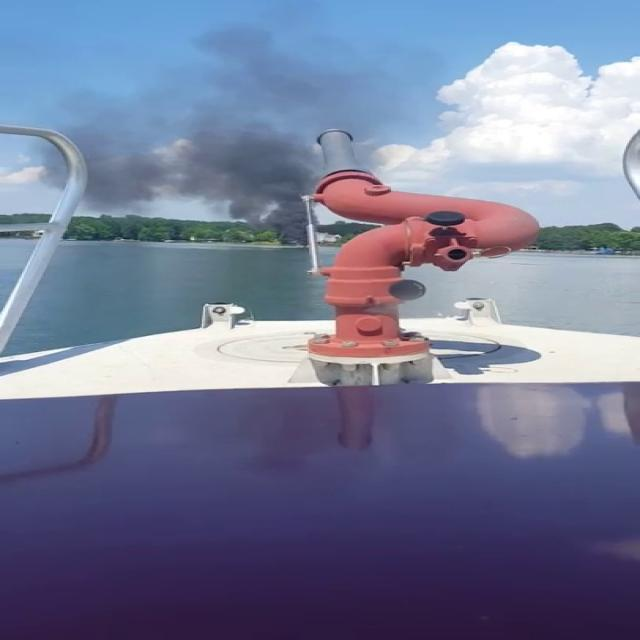Smoke: (9, 18, 373, 220)
